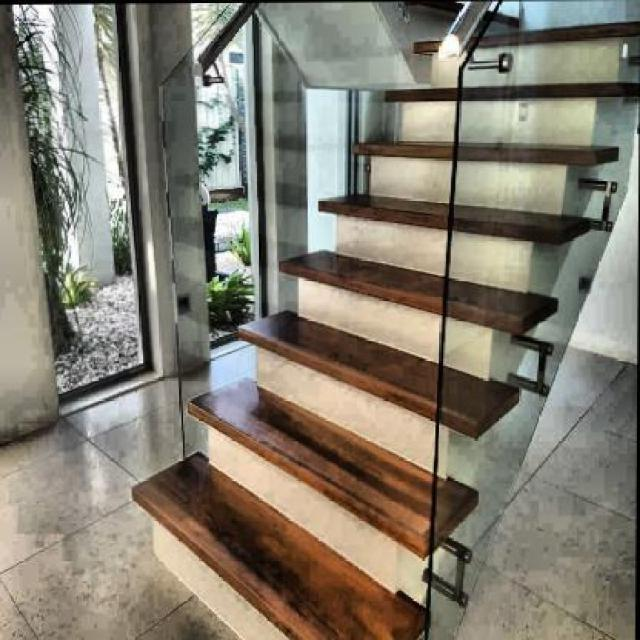stair: (132, 1, 630, 638)
